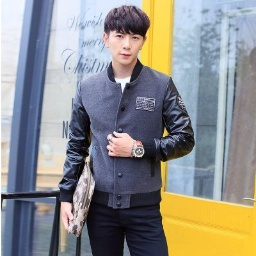face: (104, 5, 150, 68)
